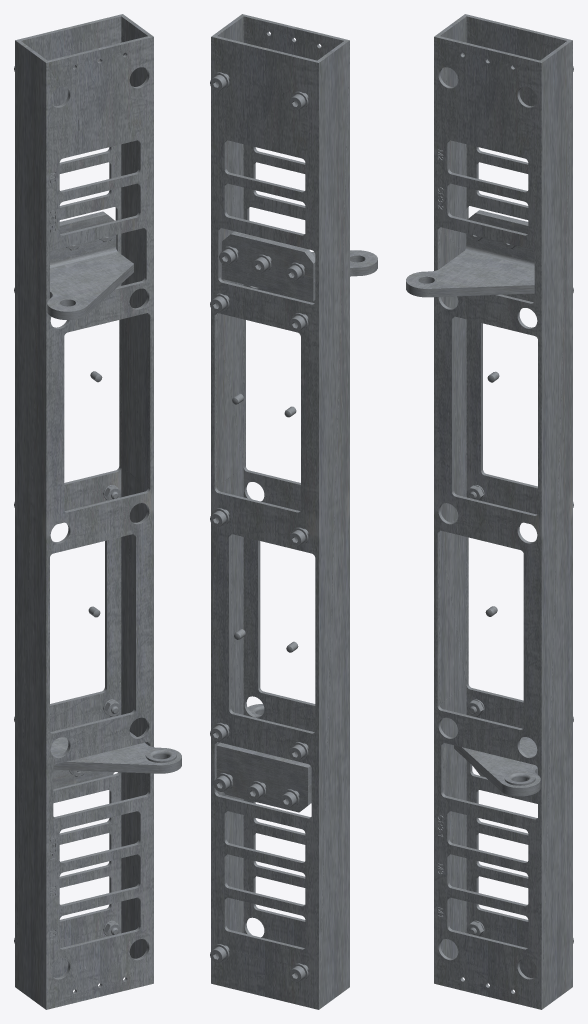
File: platine_step_3.obj
The picture shows the model from 3 angles, left to right: view 1: azimuth 30°, elevation 25°; view 2: azimuth 150°, elevation 25°; view 3: azimuth 330°, elevation 25°; orthographic projection.
Parts seen in each view (by area): view 1: OAC_INCOLORE, OAC_INCOLORE2, OAC_INCOLORE1; view 2: OAC_INCOLORE, OAC_INCOLORE2, OAC_INCOLORE1; view 3: OAC_INCOLORE, OAC_INCOLORE2, OAC_INCOLORE1.
Part boxes in pixels (bbox=[...]): OAC_INCOLORE: bbox=[15, 14, 153, 1009]; OAC_INCOLORE2: bbox=[47, 211, 133, 320]; OAC_INCOLORE1: bbox=[50, 732, 181, 789]; OAC_INCOLORE: bbox=[211, 14, 349, 1009]; OAC_INCOLORE2: bbox=[222, 231, 377, 301]; OAC_INCOLORE1: bbox=[216, 704, 311, 812]; OAC_INCOLORE: bbox=[434, 14, 572, 1009]; OAC_INCOLORE2: bbox=[406, 210, 534, 297]; OAC_INCOLORE1: bbox=[454, 737, 540, 796].
Size of the model in its own units: 71.89 by 504 by 62.95.
Materials: 1 (1 with a texture image).
